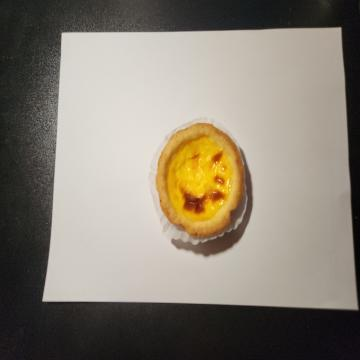EggTart: (155, 121, 246, 236)
